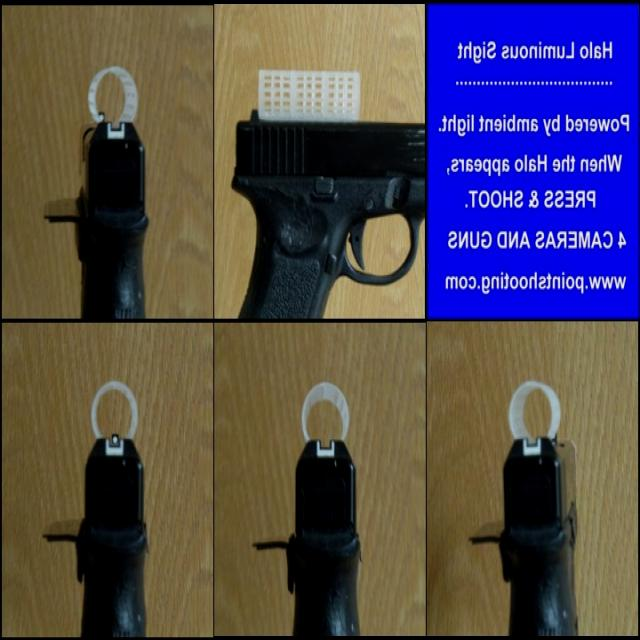pistol: (231, 120, 426, 315), (41, 428, 152, 636), (252, 430, 361, 632), (46, 111, 150, 317), (479, 426, 581, 633)
